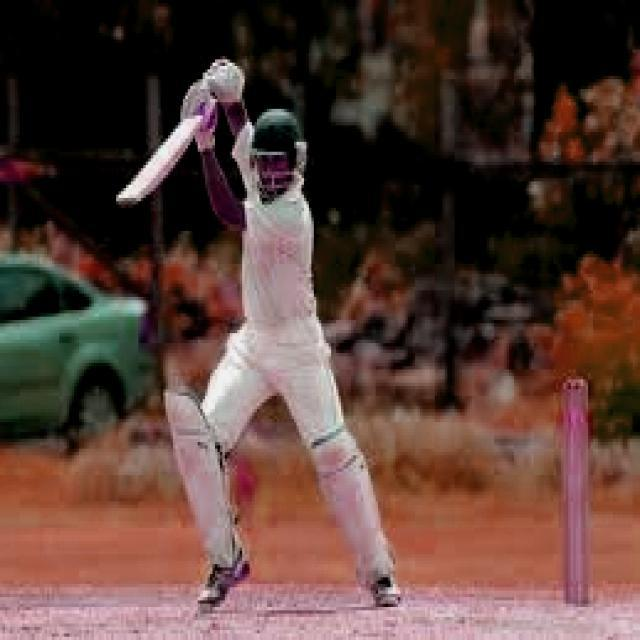bat: (110, 108, 210, 213)
toe: (109, 198, 140, 207)
